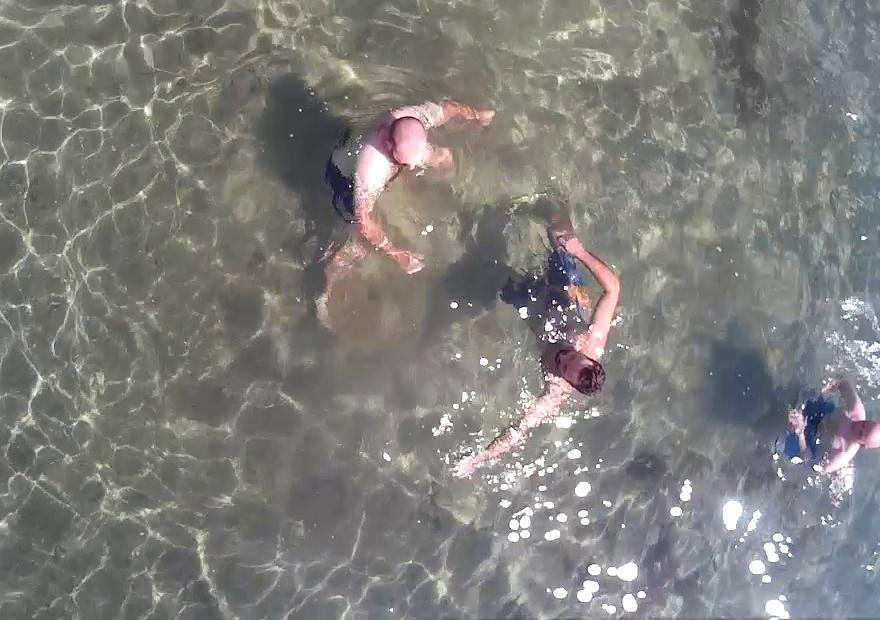swimmer: (458, 207, 619, 500), (328, 89, 504, 286), (768, 334, 876, 488)
